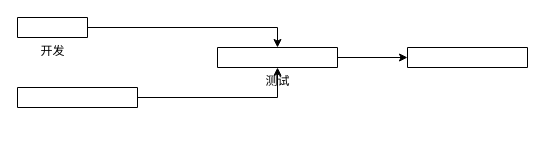
Some shapes in this 545 by 146 pixel diagram are drawn without their labels. Here are the shapes that lost their labels. From the top down, the box of each, then its label:
(406, 46, 528, 68): 发布流程
(16, 86, 138, 108): 数据开发
